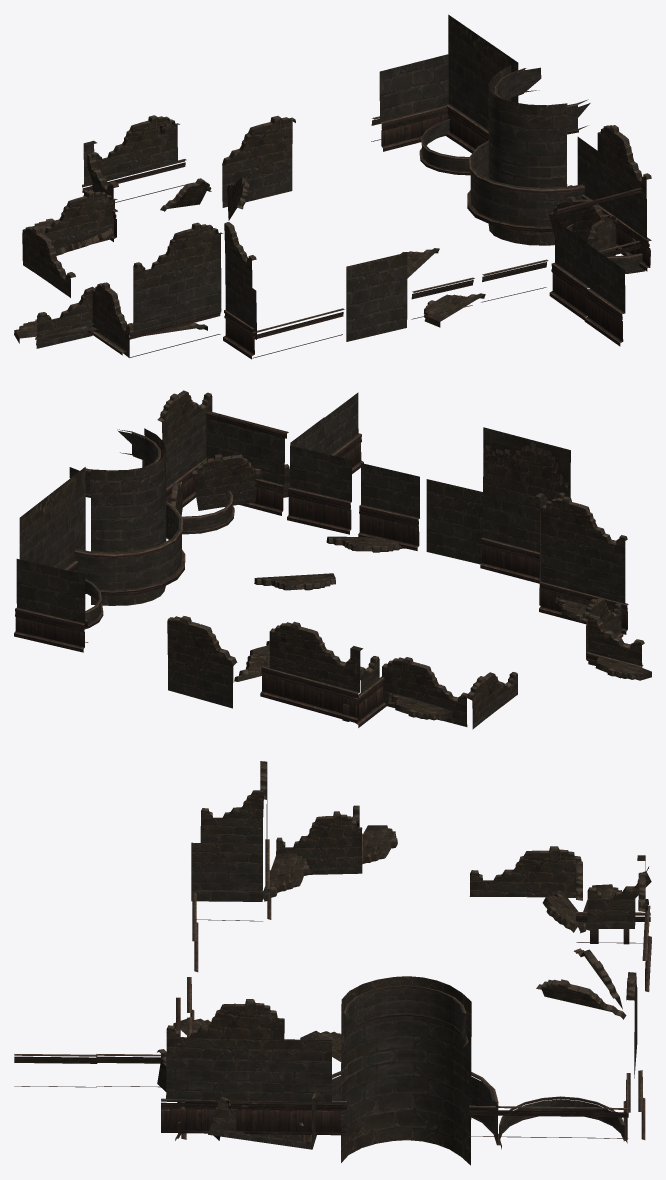
File: slsd_qiangmi_01.FBX
The picture shows the model from 3 angles, top to bottom: view 1: azimuth 30°, elevation 25°; view 2: azimuth 150°, elevation 25°; view 3: azimuth 270°, elevation 25°; orthographic projection. The views are drawn at different scales.
Parts seen in each view (by area): view 1: slsd_qiangmi_01; view 2: slsd_qiangmi_01; view 3: slsd_qiangmi_01.
Boxes of the visible parts, <box> form: slsd_qiangmi_01: <box>14,14,651,359</box>; slsd_qiangmi_01: <box>14,390,651,729</box>; slsd_qiangmi_01: <box>14,761,651,1165</box>.
Size of the model in its own units: 6627 by 1896 by 5572.
